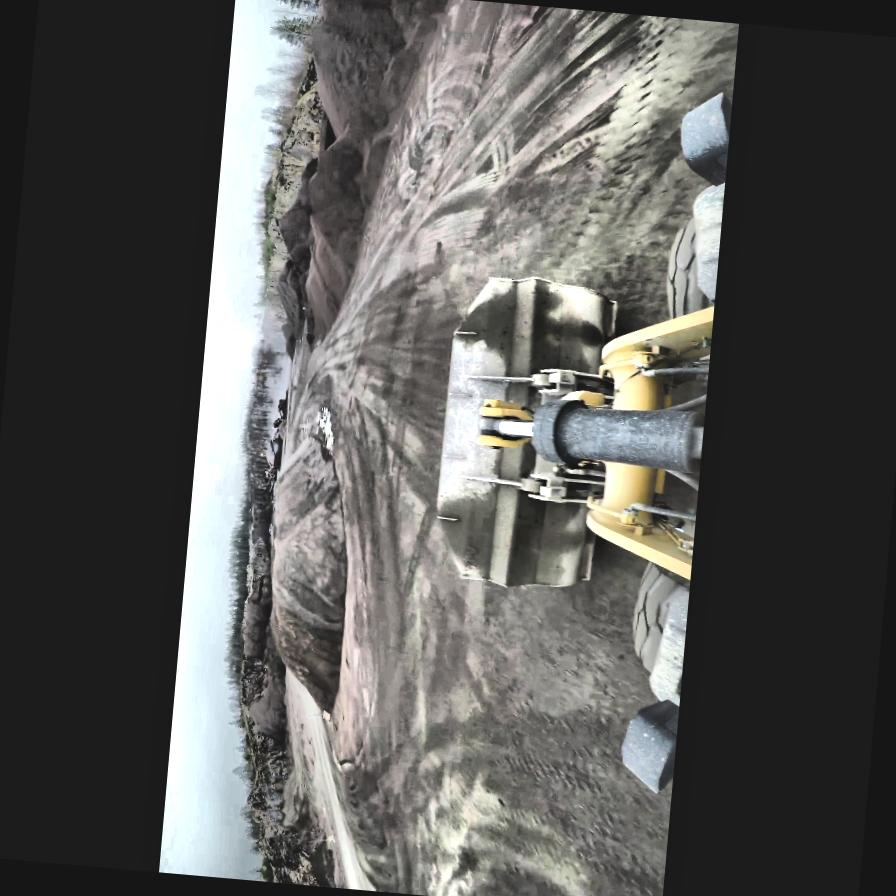anchor: (475, 400, 535, 450)
pile of gravel: (254, 446, 362, 714), (295, 0, 442, 155), (287, 131, 380, 331), (294, 8, 355, 134), (270, 158, 321, 280), (236, 564, 278, 678), (238, 656, 291, 742), (298, 253, 344, 340), (269, 264, 309, 345), (246, 495, 274, 560), (282, 331, 296, 363)
